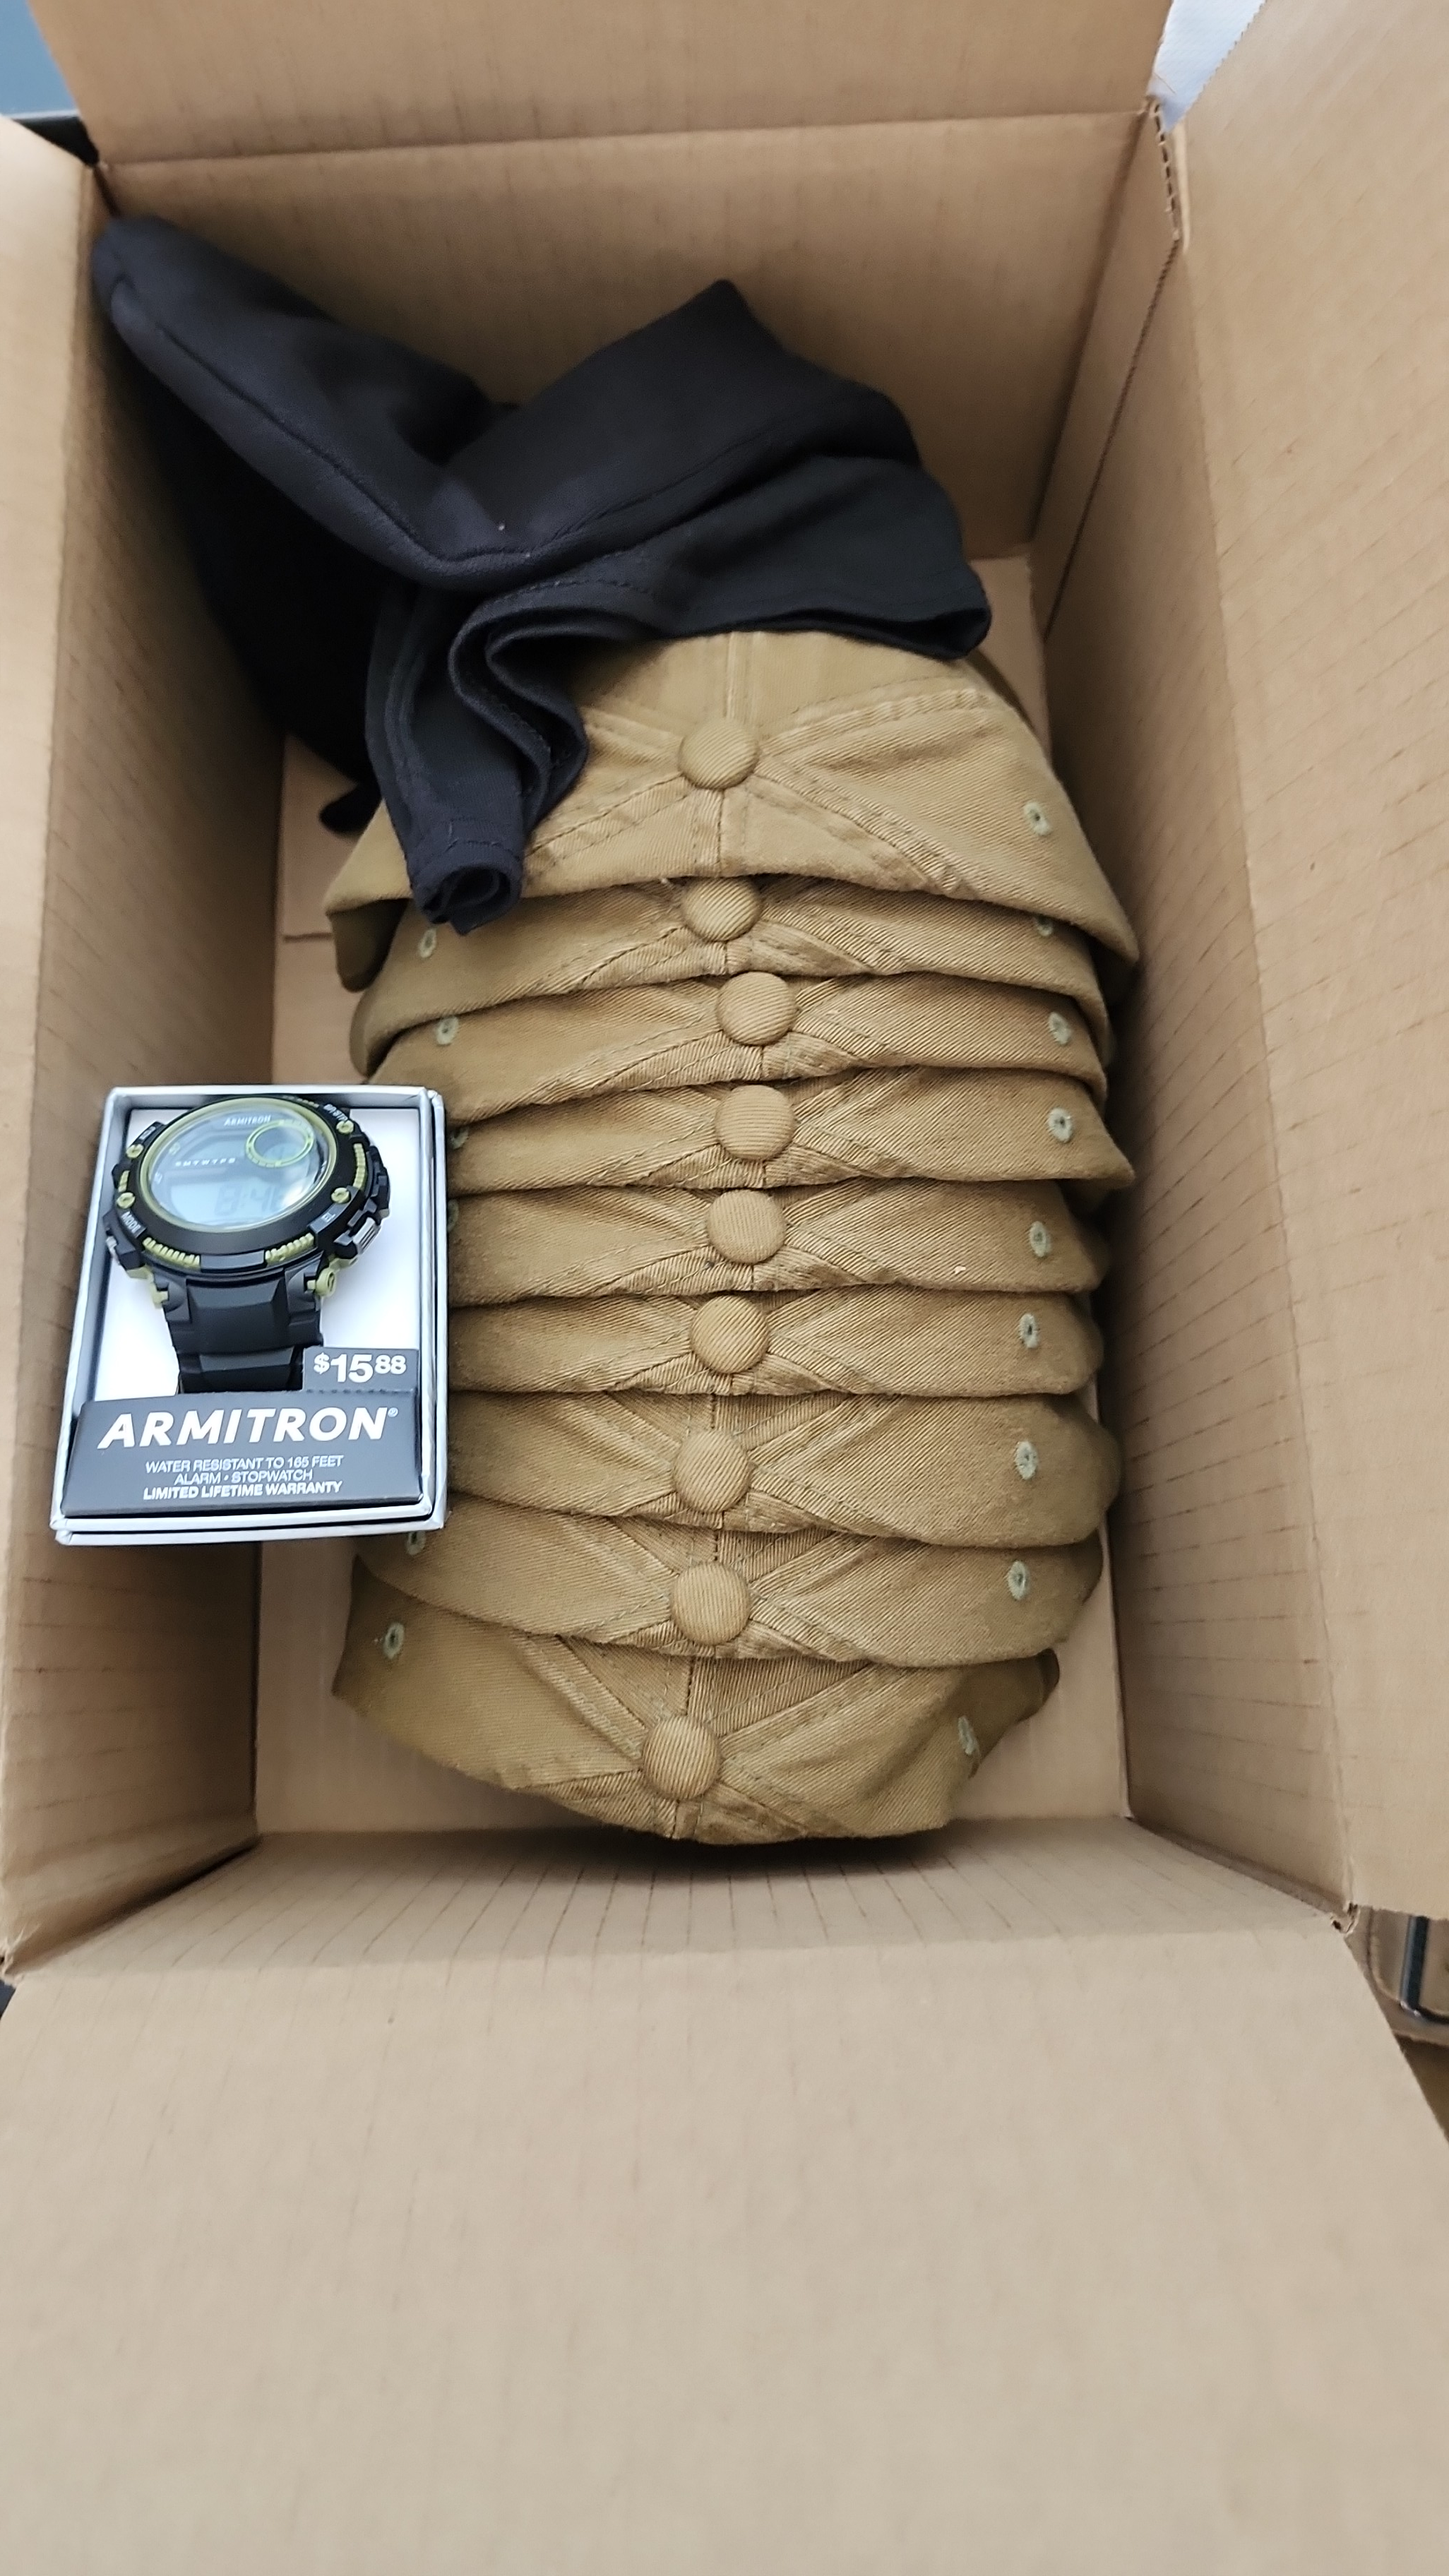hat: (363, 603, 1131, 1805)
watch: (80, 1024, 441, 1562)
